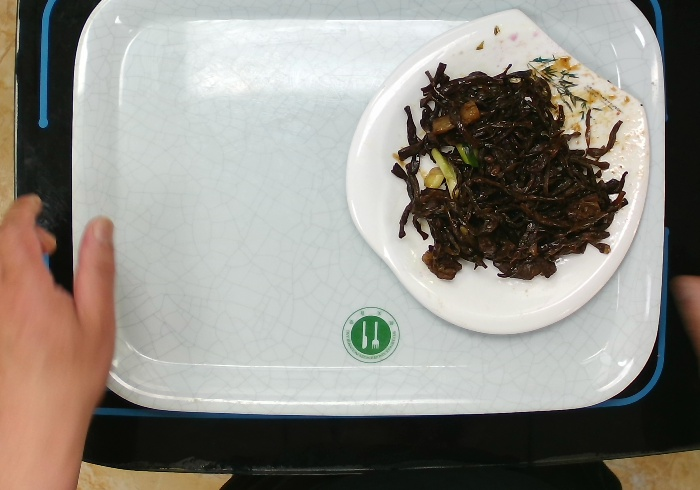JYsf-Mian_Pan: (338, 12, 654, 340)
